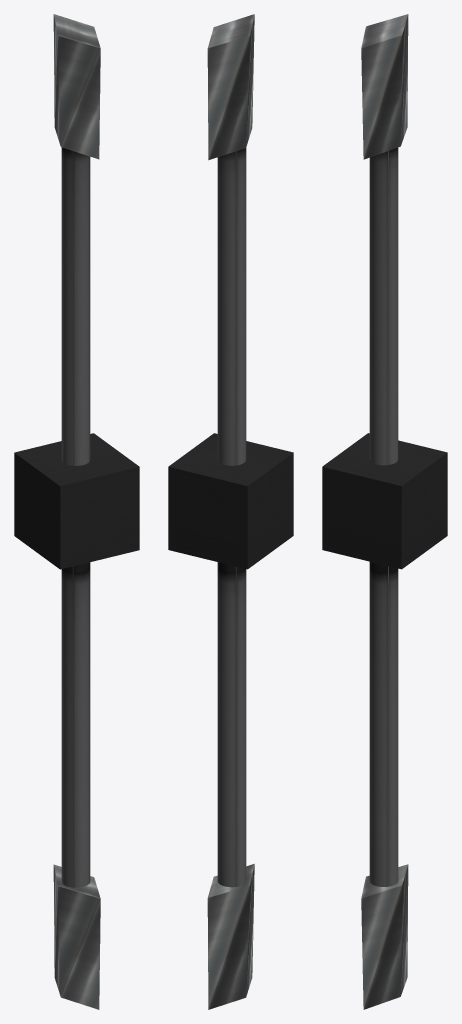
The model's file is axe.gltf.
3 views of the same model, side by side, from view 1: azimuth 30°, elevation 25°; view 2: azimuth 150°, elevation 25°; view 3: azimuth 330°, elevation 25° (orthographic).
Visible parts, largest first — view 1: Box25, Cylinder, Cylinder1, Box26, Box24; view 2: Box25, Cylinder, Cylinder1, Box26, Box24; view 3: Box25, Cylinder, Cylinder1, Box26, Box24.
Boxes of the visible parts, x1,y1,x2,y2 form: Box25: (14,433,139,569); Cylinder: (61,562,90,887); Cylinder1: (61,147,90,465); Box26: (53,14,100,159); Box24: (53,864,100,1009); Box25: (168,433,293,569); Cylinder: (217,562,246,887); Cylinder1: (217,148,246,465); Box26: (207,14,254,160); Box24: (207,863,254,1009); Box25: (322,433,447,569); Cylinder: (369,561,398,886); Cylinder1: (369,148,398,465); Box26: (361,14,408,159); Box24: (361,864,408,1009).
Bounding box in the file's own units: 0.25 × 2.89 × 0.2558.
5 materials, 5 textured.
